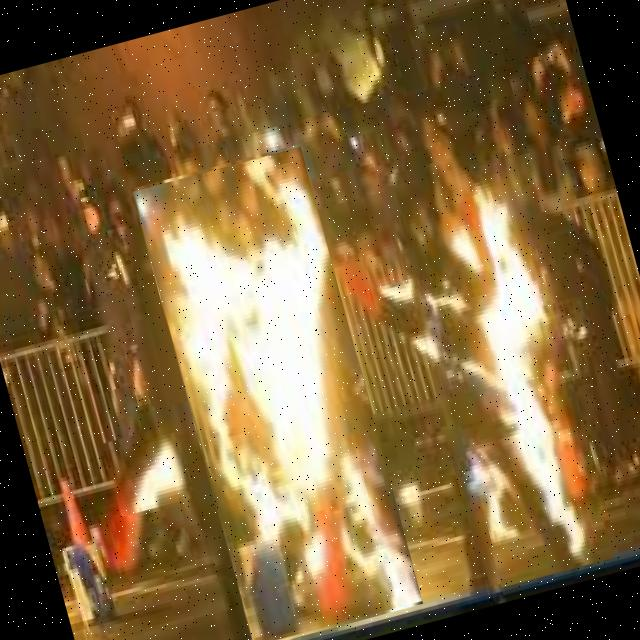fire: (132, 146, 422, 640), (382, 144, 615, 589), (104, 428, 194, 519)
